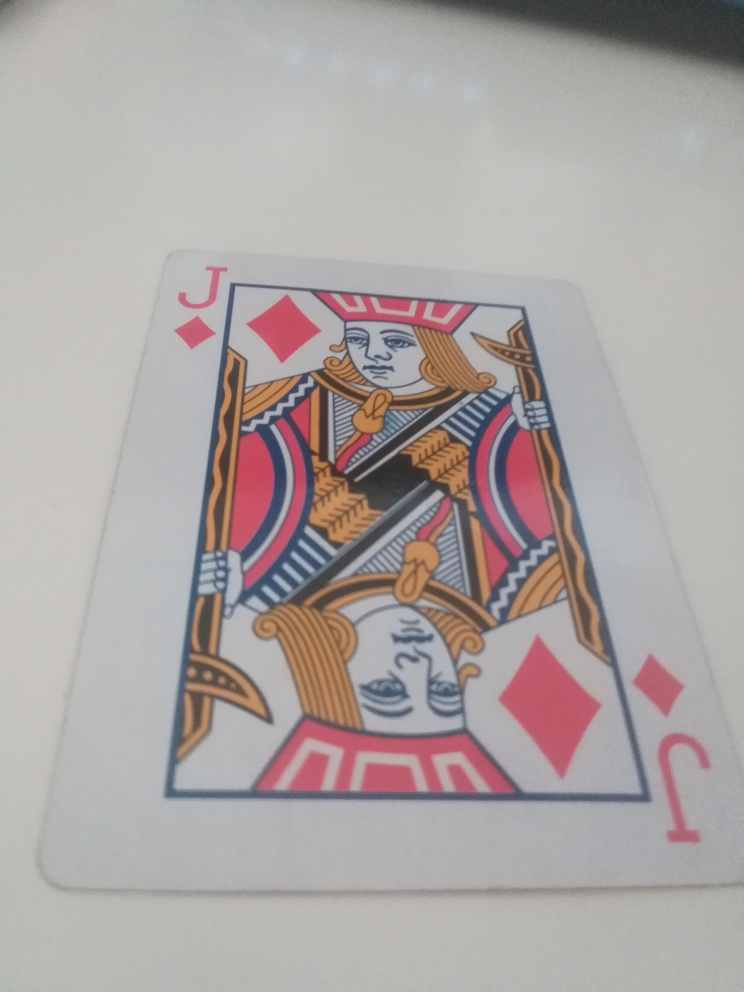JD: (165, 256, 234, 361)
